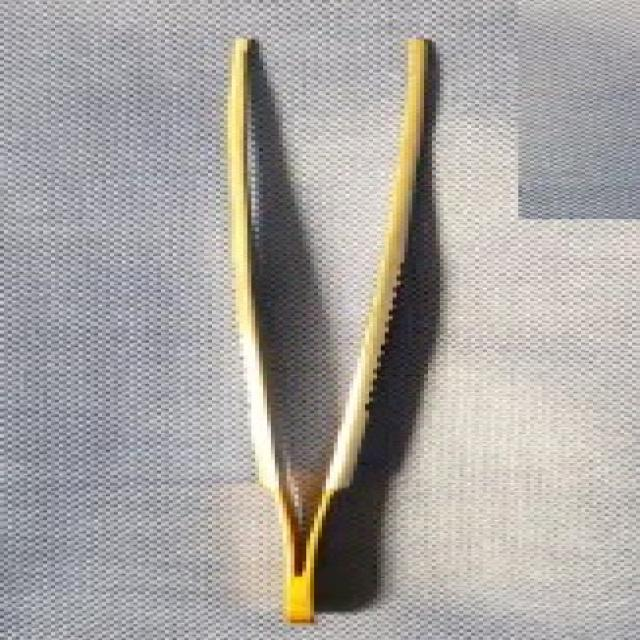Disscting Forceps -Plain-: (205, 28, 462, 620)
